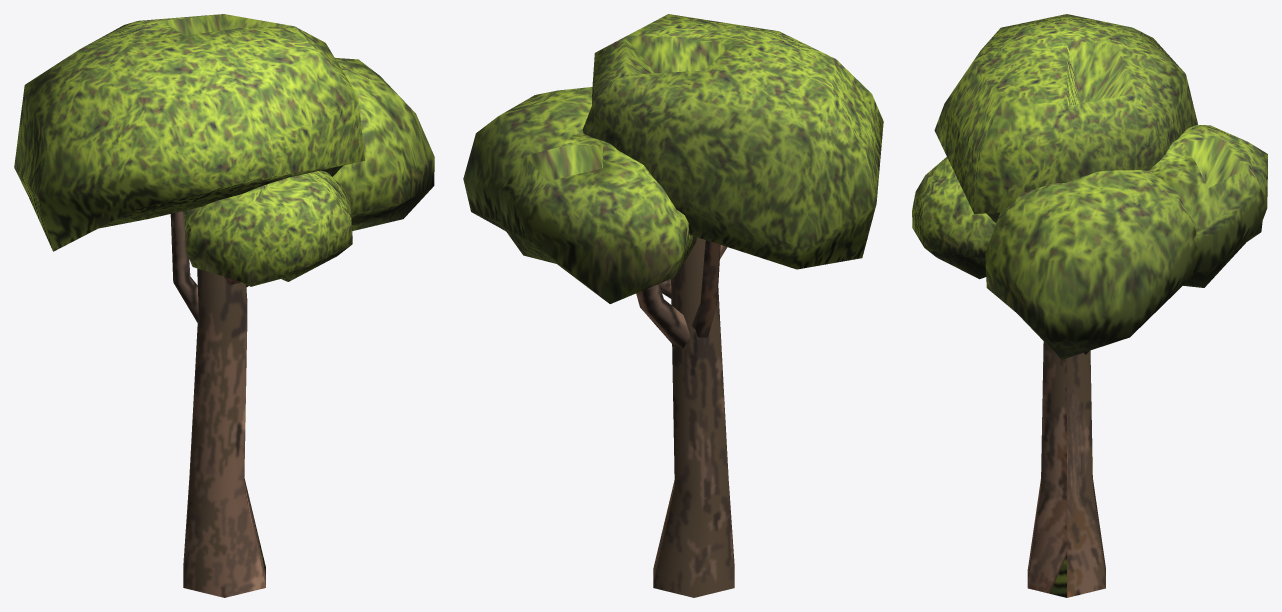
File: Tree2.fbx
The picture shows the model from 3 angles, left to right: view 1: azimuth 30°, elevation 25°; view 2: azimuth 150°, elevation 25°; view 3: azimuth 270°, elevation 25°; orthographic projection. The views are drawn at different scales.
Parts seen in each view (by area): view 1: pCylinder4; view 2: pCylinder4; view 3: pCylinder4.
Part boxes in pixels (left/top/right/bottom): pCylinder4: left=14, top=14, right=434, bottom=597; pCylinder4: left=463, top=14, right=883, bottom=597; pCylinder4: left=912, top=14, right=1267, bottom=597.
Size of the model in its own units: 1359 by 1850 by 1145.
